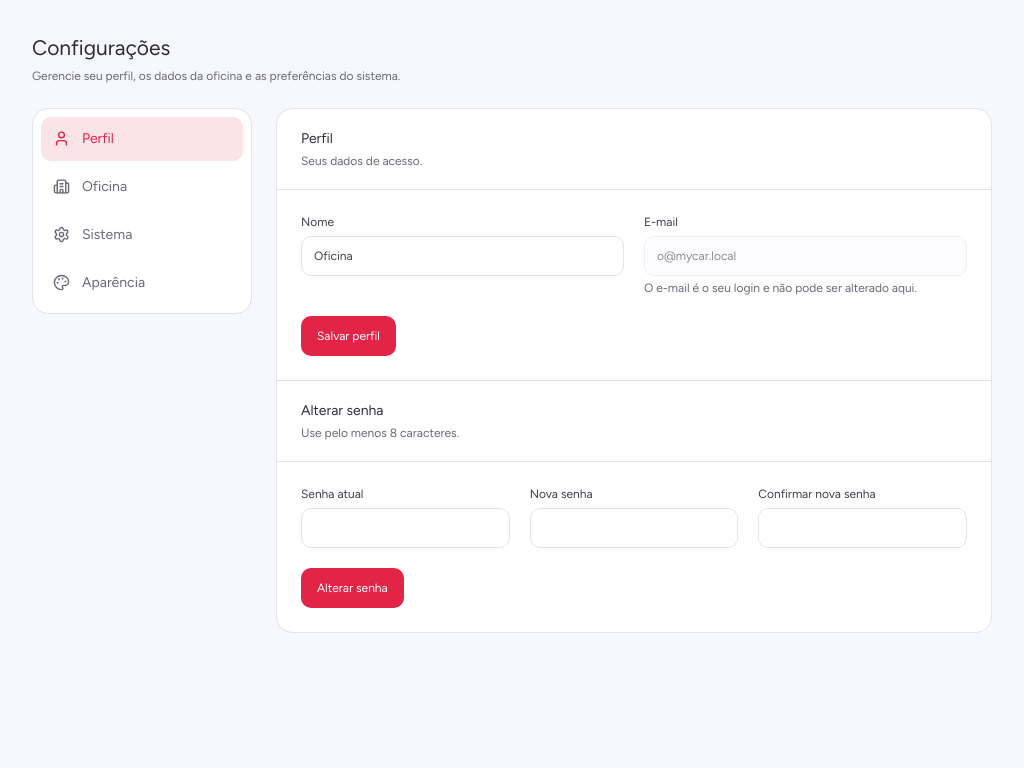
Test: Configurações: falha ao carregar a oficina › desabilita os campos e o botão, e volta ao normal ao tentar de novo
Step 1. Click the button "Oficina" → (142, 186), box [41, 164, 243, 208]
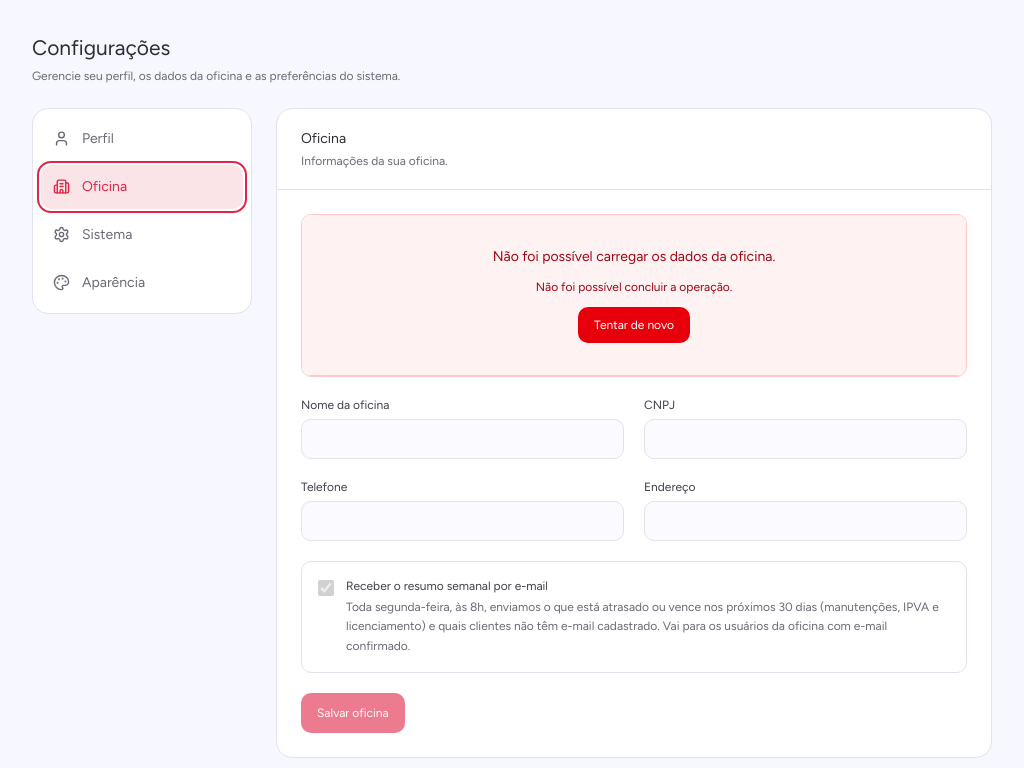
Expected: the text "Não foi possível carregar os dados da oficina." is shown, [493, 246, 775, 266]
Expected: the field labelled "Nome da oficina" is disabled, [301, 418, 624, 458]
Expected: the button "Salvar oficina" is disabled, [301, 693, 405, 733]
Step 2. Click the button "Tentar de novo" → (634, 324), box [578, 306, 690, 342]
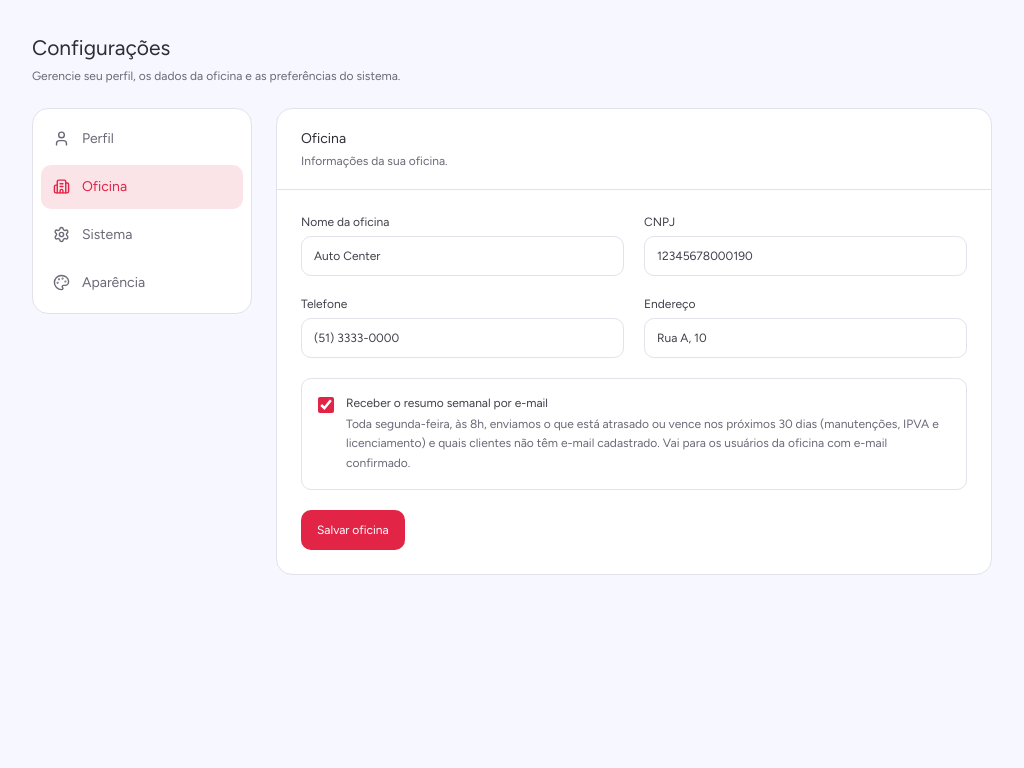
Expected: the field labelled "Nome da oficina" is enabled, [301, 236, 624, 276]
Expected: the field labelled "Nome da oficina" holds "Auto Center", [301, 236, 624, 276]
Expected: the button "Salvar oficina" is enabled, [301, 510, 405, 550]
